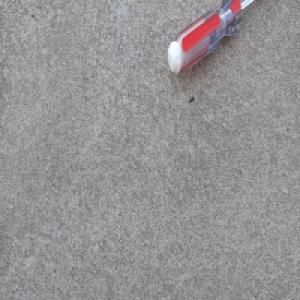Screwdriver: (165, 0, 264, 76)
